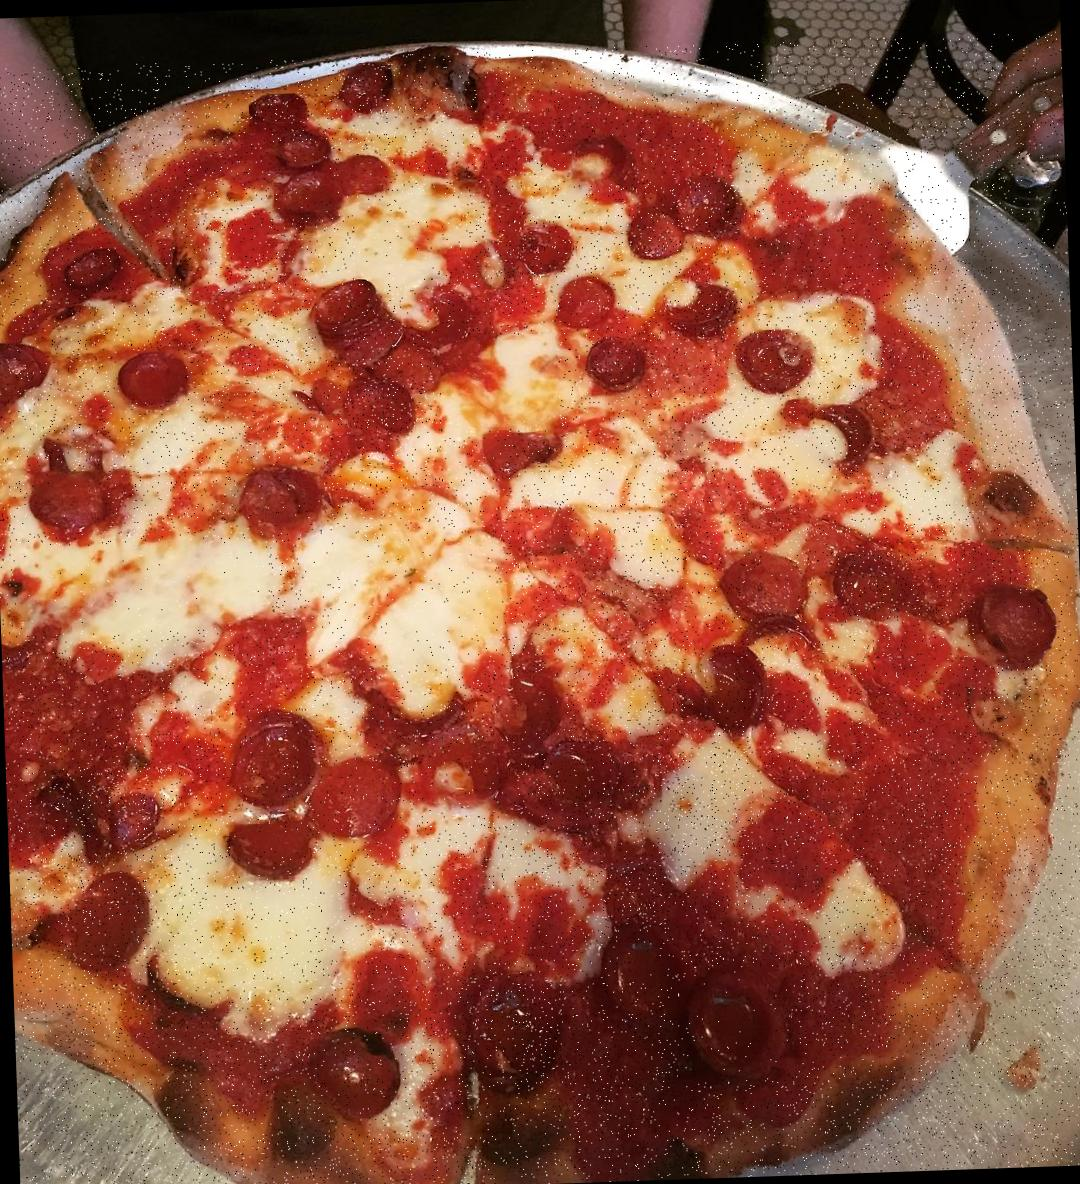Cheese: (303, 526, 498, 668), (15, 537, 268, 635), (185, 876, 365, 1001), (536, 430, 667, 537), (439, 334, 560, 432), (661, 747, 757, 853), (354, 194, 462, 275)
Pepperoni: (26, 870, 165, 972), (38, 767, 165, 863), (686, 969, 788, 1081), (465, 974, 567, 1084), (586, 926, 688, 1029), (225, 710, 324, 805), (308, 1023, 403, 1120), (683, 646, 766, 738), (310, 277, 403, 358), (975, 580, 1060, 665), (534, 741, 621, 822), (325, 759, 405, 842), (274, 162, 388, 219), (723, 552, 811, 624), (235, 461, 324, 532), (428, 736, 515, 805), (364, 684, 462, 743), (494, 678, 569, 750), (229, 823, 318, 882), (811, 400, 880, 474), (27, 471, 108, 534), (731, 329, 818, 388), (836, 550, 913, 614), (610, 856, 673, 933), (347, 377, 420, 441), (662, 282, 742, 336), (586, 336, 652, 397), (679, 171, 741, 230), (118, 351, 186, 403), (0, 342, 53, 410), (557, 275, 622, 330), (480, 433, 538, 487), (621, 206, 683, 257), (572, 137, 632, 186), (520, 226, 578, 270), (65, 246, 125, 289), (337, 63, 393, 107), (250, 94, 314, 130), (275, 133, 330, 166)
Pizza: (0, 31, 1080, 1184)
